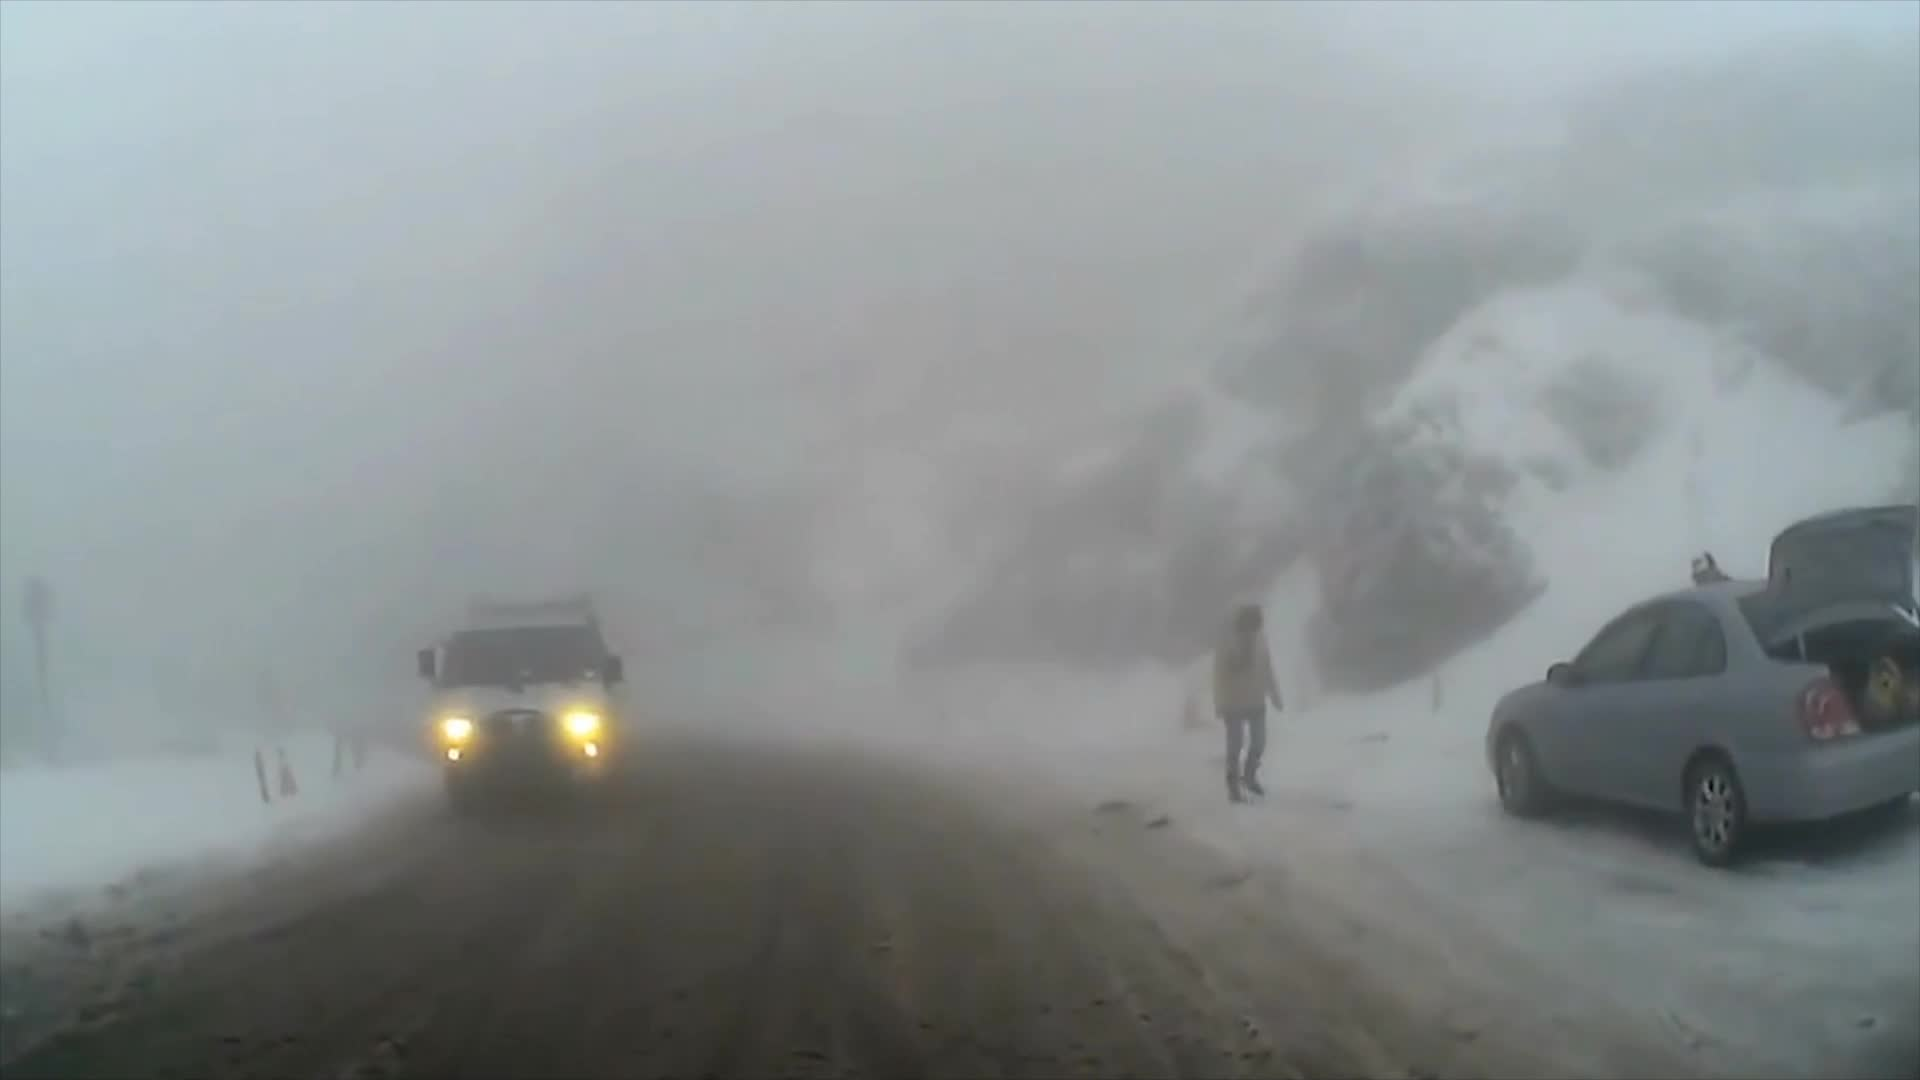pedestrian: (1210, 593, 1286, 798)
vehicle: (1481, 495, 1920, 868), (414, 594, 628, 823)
